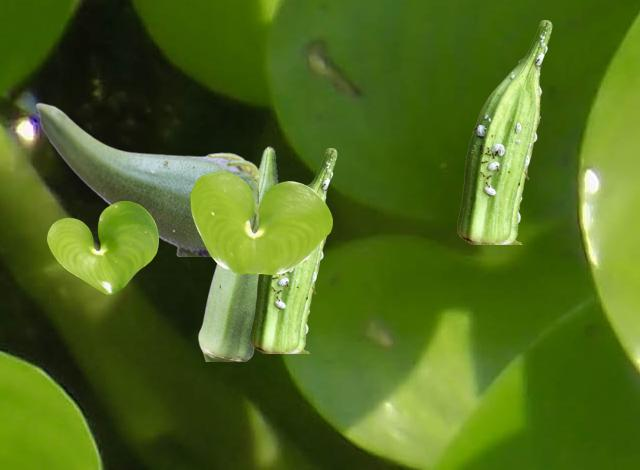okra: (35, 102, 257, 255), (457, 20, 551, 243), (250, 148, 336, 352), (198, 146, 278, 360)
